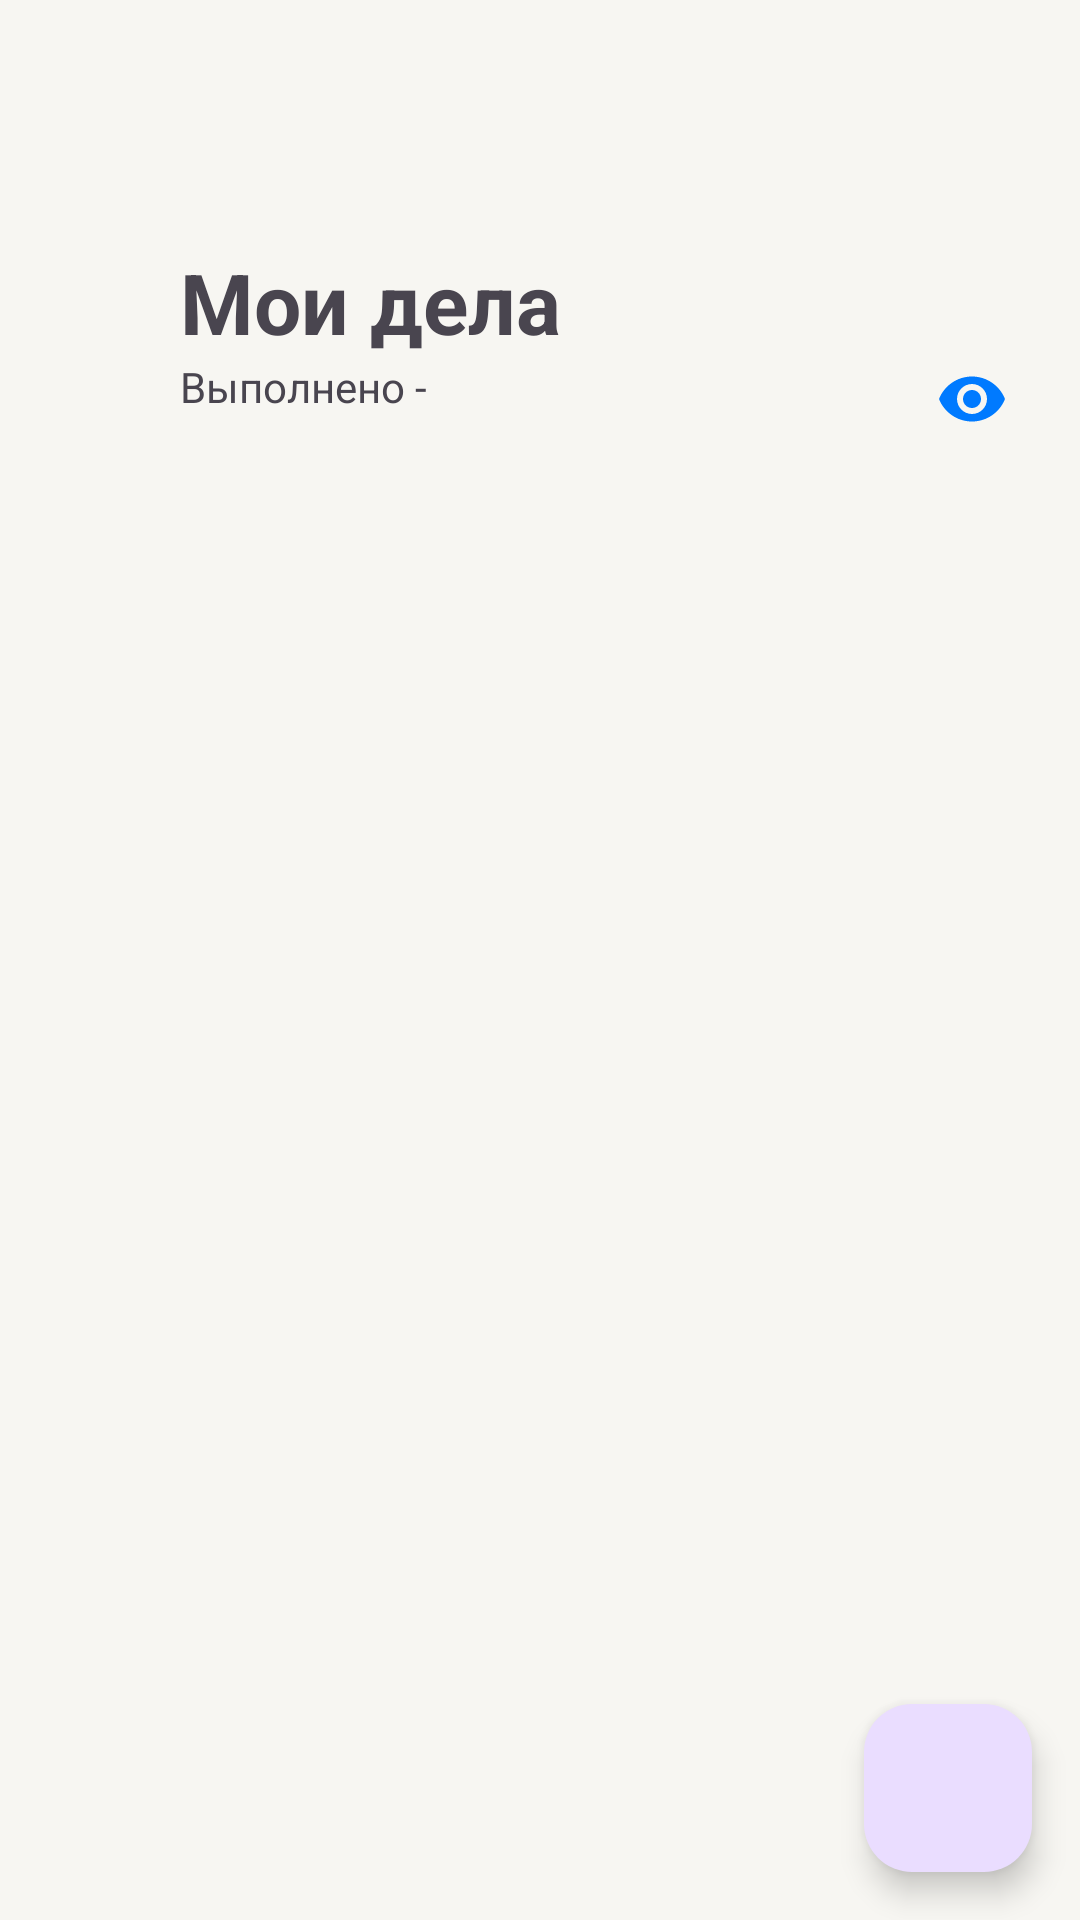

Named icons in this screenshot (1080 x 1920) and their centers, (x,y):
visibility: (972,399)
